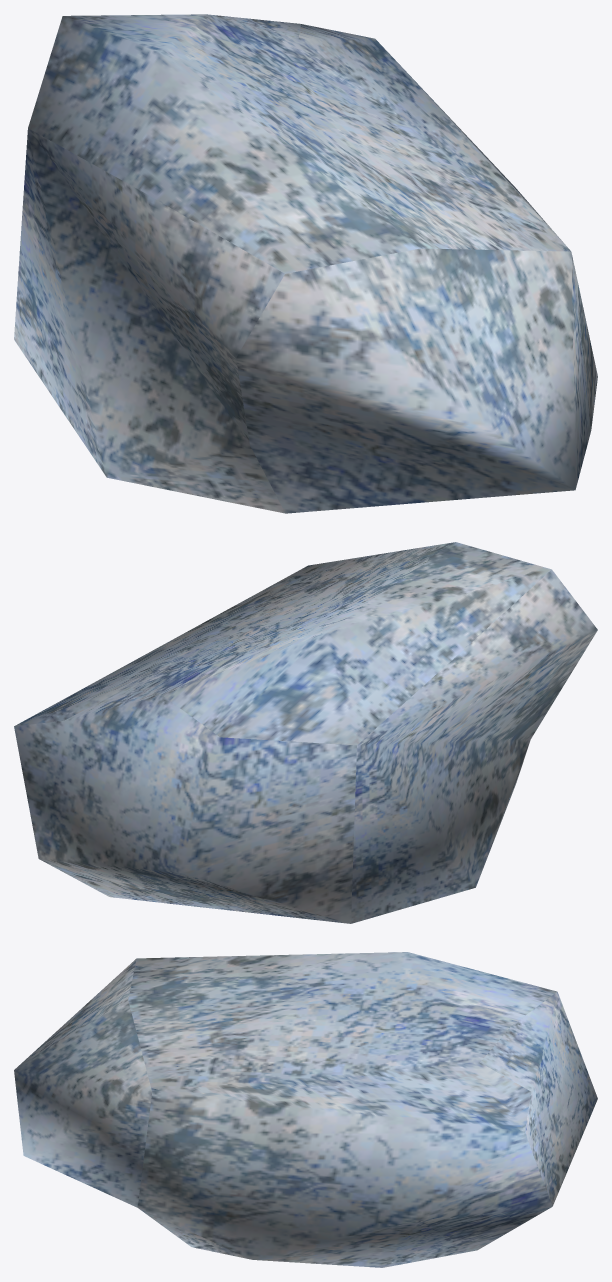
Rendered from asteroid_ice_small_s01_l3.fbx.
3 renders of one model, top to bottom at view 1: azimuth 30°, elevation 25°; view 2: azimuth 150°, elevation 25°; view 3: azimuth 270°, elevation 25°, orthographic. The views are drawn at different scales.
Parts seen in each view (by area): view 1: mesh_node; view 2: mesh_node; view 3: mesh_node.
Part boxes in pixels (x1,y1,x2,y2): mesh_node: (14,14,597,513); mesh_node: (14,542,597,923); mesh_node: (14,952,597,1267).
Bounding box in the file's own units: 15.89 × 10.9 × 24.59.
